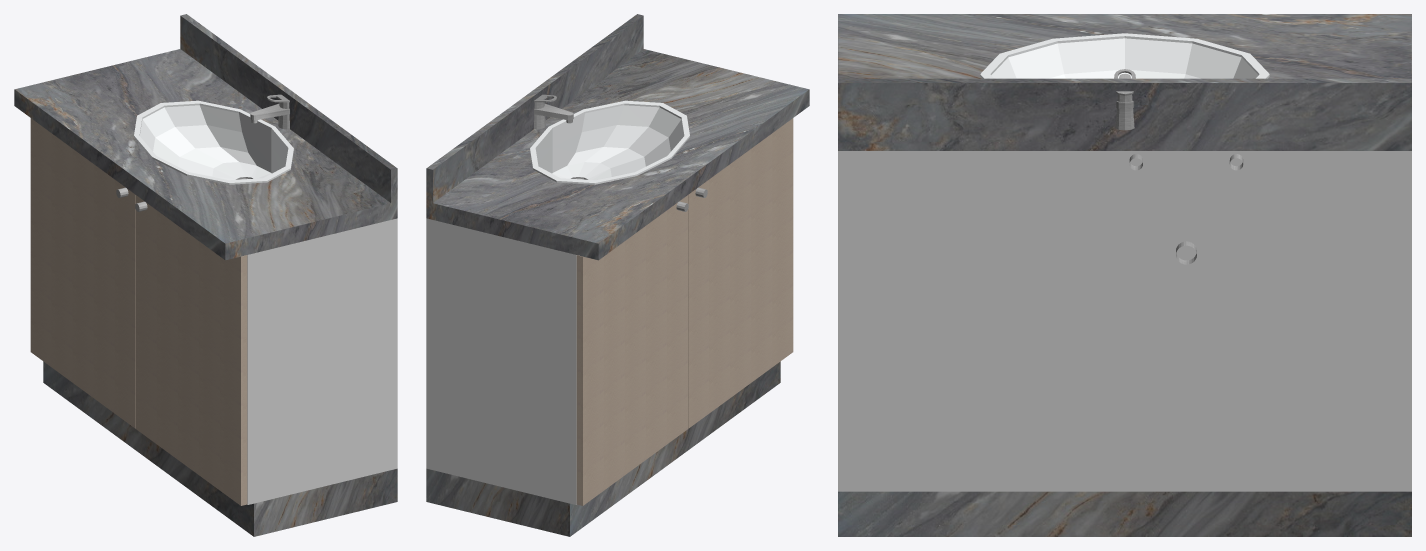
3 views of the same model, side by side, from view 1: azimuth 30°, elevation 25°; view 2: azimuth 150°, elevation 25°; view 3: azimuth 270°, elevation 25° (orthographic). The views are drawn at different scales.
Parts seen in each view (by area): view 1: VisualSceneNode1.107; view 2: VisualSceneNode1.107; view 3: VisualSceneNode1.107.
Part boxes in pixels (x1,y1,x2,y2): VisualSceneNode1.107: (14, 14, 397, 536); VisualSceneNode1.107: (426, 14, 809, 536); VisualSceneNode1.107: (838, 14, 1411, 536).
Size of the model in its own units: 0.56 by 1 by 1.15.
Materials: 4 (3 with a texture image).
